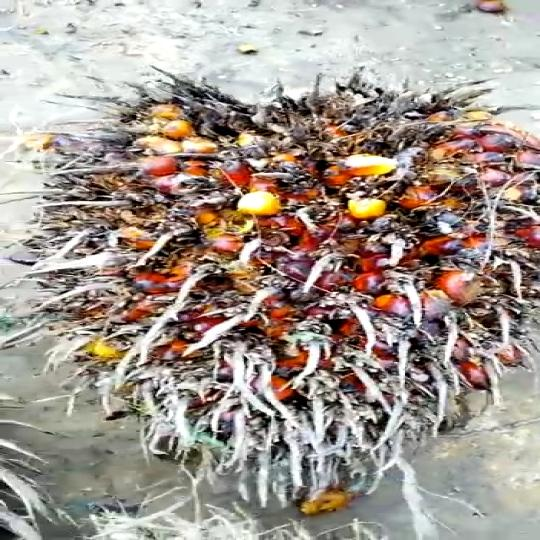terlalu masak: (4, 64, 540, 540)
